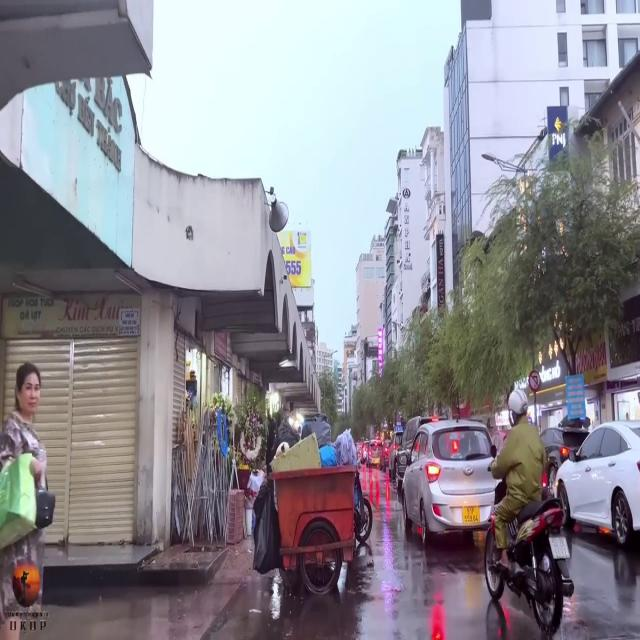bien_vang: (462, 505, 480, 522)
